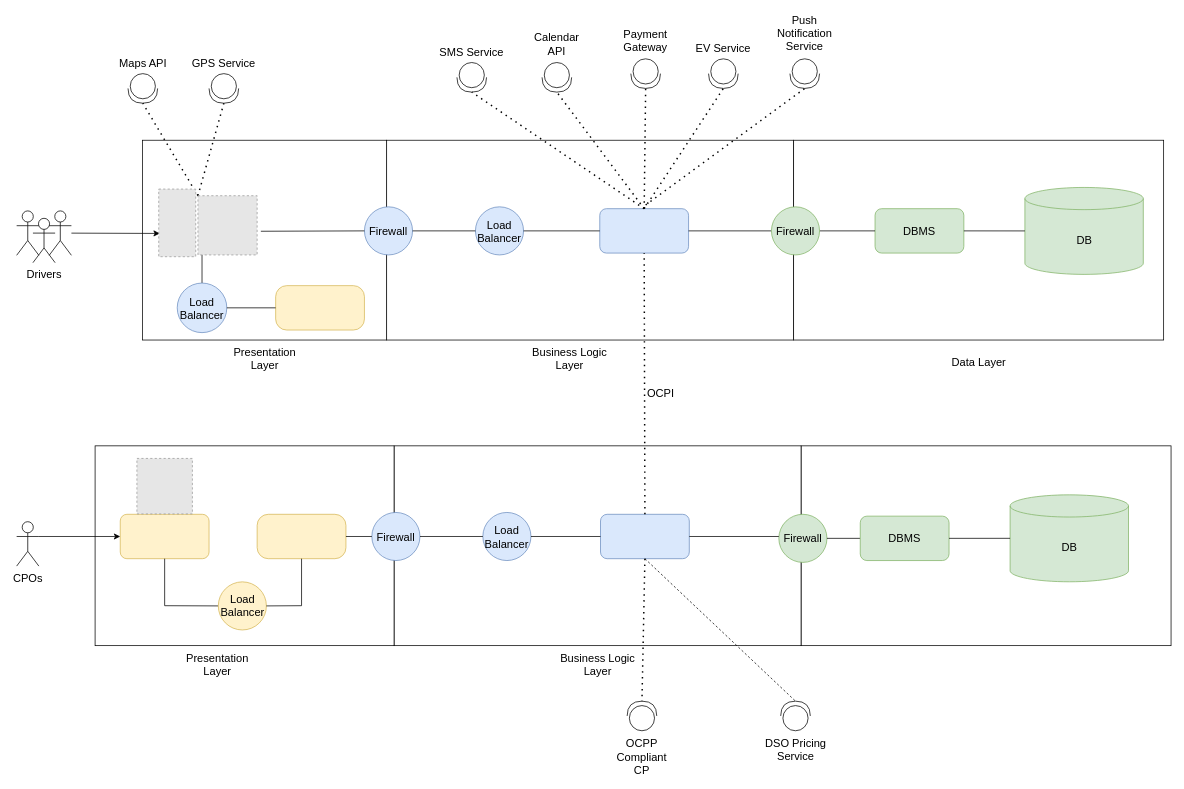
Image size: 1184x789. Some labels were removed from this diagram. Grey dashed boxes stand in for pictures. The centre of each missing label's shape, as x and y in pixels:
"<Browser> Web App" goes at point 164,536.
"CPMS Application Server" goes at point 644,536.
"eMsp Application Server" goes at point 644,230.
"Static Web Server" goes at point 319,307.
"Web Server" goes at point 301,536.
